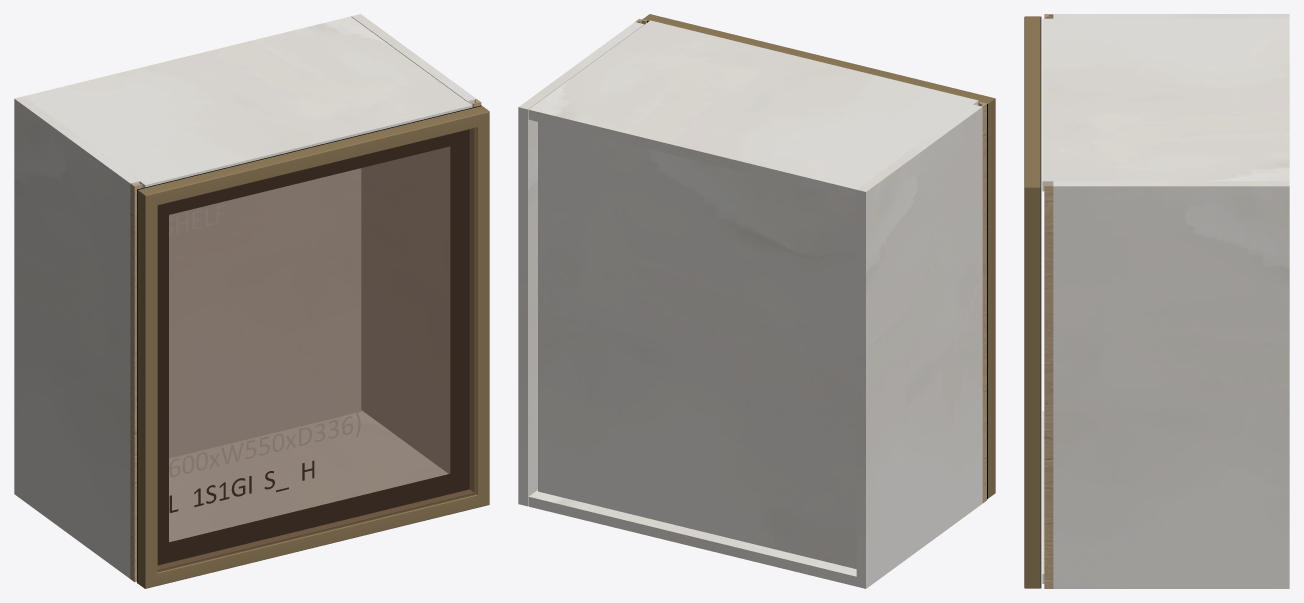
Rendered from LO-SH-NHX-GL-1SG-RHS-XXX-550-600-336-15.glb.
The picture shows the model from 3 angles, left to right: view 1: azimuth 30°, elevation 25°; view 2: azimuth 150°, elevation 25°; view 3: azimuth 270°, elevation 25°; orthographic projection.
Visible parts, largest first — view 1: Object_node_4, TP_node_0, TP_node_2, TP, Neon 22 Profile ALU PROF NEON 20 L21XH22.5MM 3MTR S2/405 SEC (×4), TP_node_1, Object_node_6, TP_node, Object_node_8, 2D text_node_0, 2D text_node; view 2: TP_node_2, TP_node_0, TP, TP_node_1, TP_node, Neon 22 Profile ALU PROF NEON 20 L21XH22.5MM 3MTR S2/405 SEC (×2), Object_node_8; view 3: TP_node_1, TP, Neon 22 Profile ALU PROF NEON 20 L21XH22.5MM 3MTR S2/405 SEC (×2), Object_node_14, TP_node_0, Object_node_6, TP_node.
Boxes of the visible parts, x1=… form: Object_node_4: x1=157, y1=127, x2=476, y2=572; TP_node_0: x1=14, y1=96, x2=139, y2=578; TP_node_2: x1=169, y1=168, x2=361, y2=458; TP: x1=24, y1=16, x2=472, y2=187; Neon 22 Profile ALU PROF NEON 20 L21XH22.5MM 3MTR S2/405 SEC (×4): x1=137, y1=106, x2=489, y2=588; TP_node_1: x1=351, y1=14, x2=476, y2=473; Object_node_6: x1=137, y1=105, x2=481, y2=583; TP_node: x1=169, y1=410, x2=447, y2=541; Object_node_8: x1=130, y1=183, x2=142, y2=582; 2D text_node_0: x1=169, y1=413, x2=360, y2=477; 2D text_node: x1=169, y1=460, x2=314, y2=512; TP_node_2: x1=538, y1=122, x2=856, y2=569; TP_node_0: x1=856, y1=104, x2=982, y2=588; TP: x1=528, y1=20, x2=978, y2=199; TP_node_1: x1=518, y1=22, x2=644, y2=506; TP_node: x1=528, y1=490, x2=856, y2=586; Neon 22 Profile ALU PROF NEON 20 L21XH22.5MM 3MTR S2/405 SEC (×2): x1=642, y1=14, x2=995, y2=498; Object_node_8: x1=978, y1=102, x2=986, y2=503; TP_node_1: x1=1053, y1=181, x2=1289, y2=588; TP: x1=1042, y1=18, x2=1289, y2=191; Neon 22 Profile ALU PROF NEON 20 L21XH22.5MM 3MTR S2/405 SEC (×2): x1=1024, y1=16, x2=1040, y2=588; Object_node_14: x1=1044, y1=182, x2=1053, y2=588; TP_node_0: x1=1053, y1=14, x2=1289, y2=18; Object_node_6: x1=1040, y1=16, x2=1041, y2=588; TP_node: x1=1042, y1=411, x2=1044, y2=583.
Size of what is drawn, in the model's own units: 0.55 by 0.6 by 0.358.
Materials: 6 (2 with a texture image).
